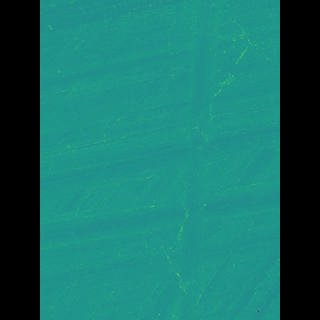Loch: (172, 0, 210, 320), (71, 0, 151, 138)
